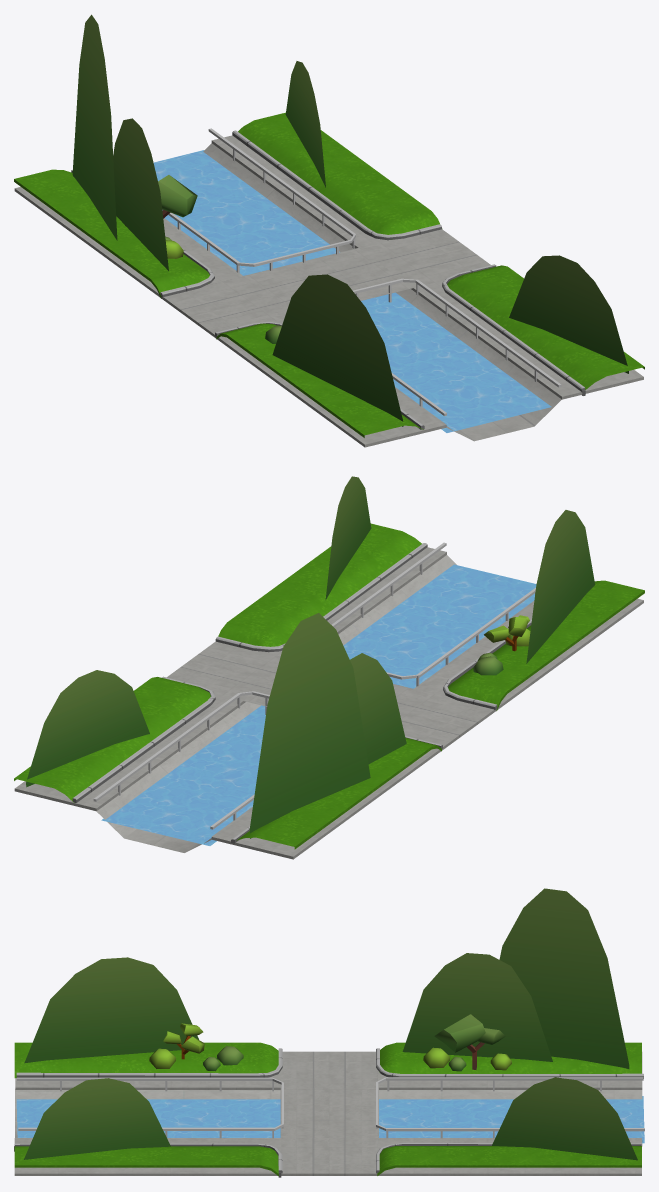
Rendered from L3 Waterway V2.fbx.
3 renders of one model, top to bottom at view 1: azimuth 30°, elevation 25°; view 2: azimuth 150°, elevation 25°; view 3: azimuth 270°, elevation 25°, orthographic. The views are drawn at different scales.
Visible parts, largest first — view 1: pPlane1246, pasted__pasted__pCube5664, pCube9250, pCube9229, pCube9217, pasted__pasted__pCube5656, pasted__pasted__pCube5663, pCube9223, pCube9221, pCube9254, pasted__pasted__pCube5665, pCube9232 (+7 smaller); view 2: pPlane1246, pasted__pasted__pCube5663, pCube9250, pCube9229, pCube9221, pasted__pasted__pCube5655, pCube9232, pCube9217, pasted__pasted__pCube5664, pCube9254, pCube9223, pasted__pasted__pCube5665 (+7 smaller); view 3: pasted__pasted__pCube5663, pasted__pasted__pCube5664, pPlane1246, pCube9250, pasted__pasted__pCube5665, pasted__pasted__pCube5656, pasted__pasted__pCube5655, pCube9229, pCube9217, pCube9221, pCube9232, pCube9716 (+11 smaller).
Part boxes in pixels (left/top/right/bottom): pPlane1246: left=153, top=150, right=551, bottom=432; pasted__pasted__pCube5664: left=272, top=274, right=403, bottom=426; pCube9250: left=211, top=135, right=643, bottom=399; pCube9229: left=14, top=187, right=446, bottom=447; pCube9217: left=238, top=112, right=442, bottom=239; pasted__pasted__pCube5656: left=509, top=255, right=628, bottom=373; pasted__pasted__pCube5663: left=72, top=14, right=117, bottom=240; pCube9223: left=14, top=169, right=209, bottom=298; pCube9221: left=447, top=265, right=644, bottom=389; pCube9254: left=203, top=143, right=561, bottom=441; pasted__pasted__pCube5665: left=113, top=118, right=168, bottom=270; pCube9232: left=216, top=323, right=423, bottom=437; pPlane1246: left=101, top=564, right=536, bottom=845; pasted__pasted__pCube5663: left=249, top=613, right=370, bottom=838; pCube9250: left=14, top=547, right=446, bottom=811; pCube9229: left=211, top=598, right=643, bottom=859; pCube9221: left=218, top=523, right=421, bottom=646; pasted__pasted__pCube5655: left=26, top=670, right=149, bottom=787; pCube9232: left=448, top=580, right=644, bottom=710; pCube9217: left=14, top=677, right=210, bottom=802; pasted__pasted__pCube5664: left=526, top=510, right=595, bottom=663; pCube9254: left=96, top=555, right=456, bottom=852; pCube9223: left=236, top=737, right=441, bottom=849; pasted__pasted__pCube5665: left=350, top=653, right=406, bottom=763; pasted__pasted__pCube5663: left=499, top=888, right=629, bottom=1068; pasted__pasted__pCube5664: left=24, top=957, right=198, bottom=1063; pPlane1246: left=16, top=1096, right=644, bottom=1143; pCube9250: left=14, top=1138, right=641, bottom=1175; pasted__pasted__pCube5665: left=402, top=953, right=552, bottom=1061; pasted__pasted__pCube5656: left=24, top=1078, right=170, bottom=1159; pasted__pasted__pCube5655: left=492, top=1077, right=637, bottom=1160; pCube9229: left=15, top=1051, right=642, bottom=1089; pCube9217: left=377, top=1146, right=641, bottom=1175; pCube9221: left=14, top=1146, right=278, bottom=1176; pCube9232: left=14, top=1042, right=278, bottom=1077; pCube9716: left=280, top=1087, right=378, bottom=1137.
Bounding box in the file's own units: 12.28 × 9.2 × 26.71.
Materials: 2 (2 with a texture image).
